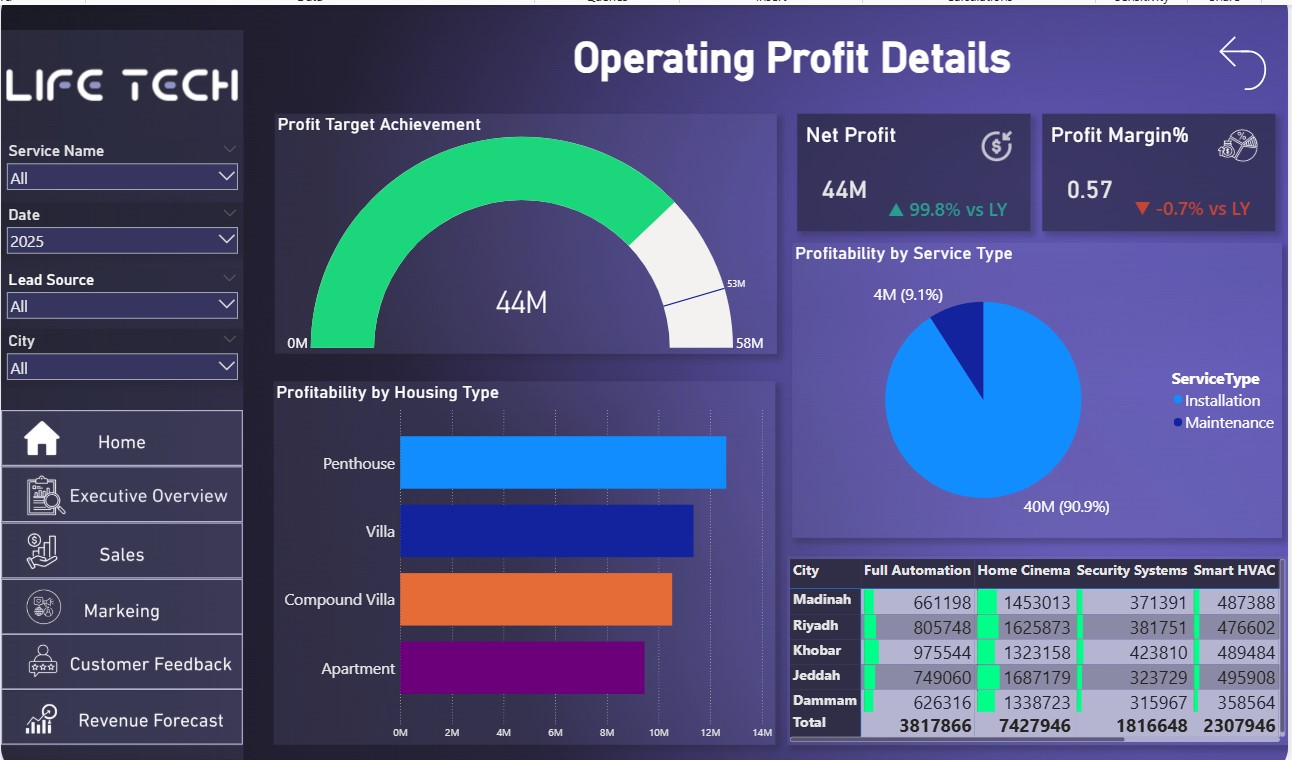

This screenshot's page, from the dashboard's own definition file:
{"tool":"powerbi","page":{"name":"Drill-through(profit-details)","canvas":[2200,1250],"ordinal":3},"visuals":[{"type":"textbox","box":[889.2,0,927.7,94],"z":0},{"type":"barChart","title":"Profitability by Housing Type","fields":{"Category":["DimHousingType.HousingType"],"Y":["DAX-Measures.Net-Operating-Profit"],"Series":["DimHousingType.HousingType"]},"box":[466.3,600.2,858.5,621.7],"z":1000},{"type":"pivotTable","fields":{"Rows":["DimCity.City"],"Columns":["DimServiceName.ServiceName"],"Values":["DAX-Measures.Net-Operating-Profit"]},"box":[1343.9,899.1,856.1,322.8],"z":2000},{"type":"pieChart","title":"Profitability by Service Type","fields":{"Category":["Sales_details.ServiceType"],"Y":["DAX-Measures.Net-Operating-Profit"]},"box":[1353,363.4,837.9,504.4],"z":3000},{"type":"cardVisual","title":"Net Profit","fields":{"Data":["DAX-Measures.Net-Operating-Profit"]},"box":[1360.7,143.5,399.3,200.9],"z":4000},{"type":"image","box":[1638,143.5,122,110],"z":5000},{"type":"cardVisual","fields":{"Data":["DAX-Measures.Net Profit KPI Text"]},"box":[1487.4,270.2,301.3,69.3],"z":6000},{"type":"cardVisual","title":"Profit Margin%","fields":{"Data":["DAX-Measures.Profit-Margin%"]},"box":[1781.5,143.5,399.3,200.9],"z":7000},{"type":"image","box":[2044.6,129.1,138.7,138.7],"z":8000},{"type":"cardVisual","fields":{"Data":["DAX-Measures.PM KPI Text"]},"box":[1908.3,267.8,270.2,69.3],"z":9000},{"type":"gauge","title":"Profit Target Achievement","fields":{"Y":["DAX-Measures.Net-Operating-Profit"],"MinValue":["DAX-Measures.Min Profit"],"MaxValue":["DAX-Measures.Max Profit"],"TargetValue":["DAX-Measures.Target Profit"]},"box":[467.8,143.4,858.4,410.4],"z":10000},{"type":"shape","box":[0,0,414.7,1248.3],"z":11000},{"type":"slicer","fields":{"Values":["DimCity.City"]},"box":[0,510.1,415,89.9],"z":11125},{"type":"slicer","fields":{"Values":["DimLeadSource.LeadSource"]},"box":[0,406.1,414.7,89.8],"z":11250},{"type":"slicer","fields":{"Values":["Calender.Year","Calender.Quarter","Calender.Month"]},"box":[0,294.4,415,89.9],"z":11375},{"type":"slicer","fields":{"Values":["DimServiceName.ServiceName"]},"box":[0,186.5,415,89.9],"z":11500},{"type":"image","box":[0,650.4,413.7,95.7],"z":16000},{"type":"image","box":[0,746.1,413.7,95.7],"z":17000},{"type":"image","box":[0,841.7,413.7,95.7],"z":18000},{"type":"image","box":[0,937.4,413.7,95.7],"z":19000},{"type":"image","box":[0,1033,413.7,95.7],"z":20000},{"type":"image","box":[0,1128.7,413.7,95.7],"z":21000},{"type":"image","box":[9.6,0,397,186.5],"z":22000},{"type":"actionButton","box":[0,1033,413.7,95.7],"z":27000},{"type":"actionButton","box":[0,1126.3,413.7,95.7],"z":28000},{"type":"actionButton","box":[0,937.4,413.7,95.7],"z":28312},{"type":"actionButton","box":[0,841.7,413.7,95.7],"z":28625},{"type":"actionButton","box":[0,746.1,413.7,95.7],"z":29250},{"type":"actionButton","box":[0,650.4,413.7,95.7],"z":29500},{"type":"actionButton","box":[2067,0,132.5,113.3],"z":30000}]}

Visuals, with their boxes on the page's 2200x1250 design canvas (x1, y1, x2, y2). These are canvas units, not pixel positions in the 1292x760 screenshot, which may show the page scaled, cropped or inside an application window:
textbox: box(889, 0, 1817, 94)
"Profitability by Housing Type" barChart: box(466, 600, 1325, 1222)
pivotTable - DimCity.City x DimServiceName.ServiceName: box(1344, 899, 2200, 1222)
"Profitability by Service Type" pieChart: box(1353, 363, 2191, 868)
"Net Profit" cardVisual: box(1361, 144, 1760, 344)
image: box(1638, 144, 1760, 254)
cardVisual - DAX-Measures.Net Profit KPI Text: box(1487, 270, 1789, 340)
"Profit Margin%" cardVisual: box(1782, 144, 2181, 344)
image: box(2045, 129, 2183, 268)
cardVisual - DAX-Measures.PM KPI Text: box(1908, 268, 2178, 337)
"Profit Target Achievement" gauge: box(468, 143, 1326, 554)
shape: box(0, 0, 415, 1248)
slicer - DimCity.City: box(0, 510, 415, 600)
slicer - DimLeadSource.LeadSource: box(0, 406, 415, 496)
slicer - Calender.Year x Calender.Quarter: box(0, 294, 415, 384)
slicer - DimServiceName.ServiceName: box(0, 186, 415, 276)
image: box(0, 650, 414, 746)
image: box(0, 746, 414, 842)
image: box(0, 842, 414, 937)
image: box(0, 937, 414, 1033)
image: box(0, 1033, 414, 1129)
image: box(0, 1129, 414, 1224)
image: box(10, 0, 407, 186)
actionButton: box(0, 1033, 414, 1129)
actionButton: box(0, 1126, 414, 1222)
actionButton: box(0, 937, 414, 1033)
actionButton: box(0, 842, 414, 937)
actionButton: box(0, 746, 414, 842)
actionButton: box(0, 650, 414, 746)
actionButton: box(2067, 0, 2200, 113)
